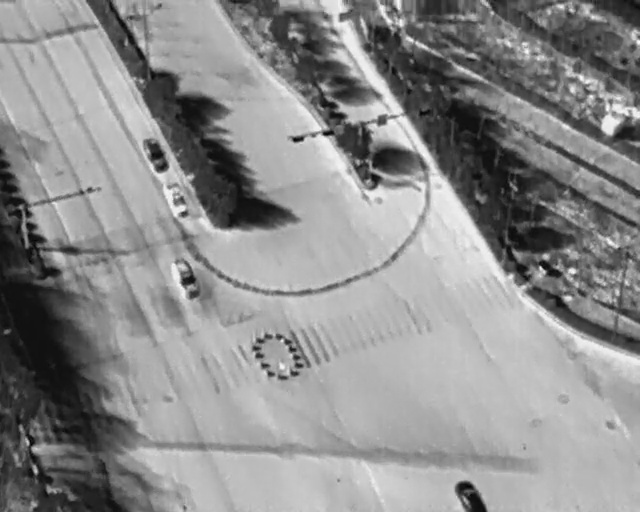Car: (167, 253, 203, 303), (139, 132, 172, 177), (159, 179, 193, 222), (455, 476, 486, 512)
